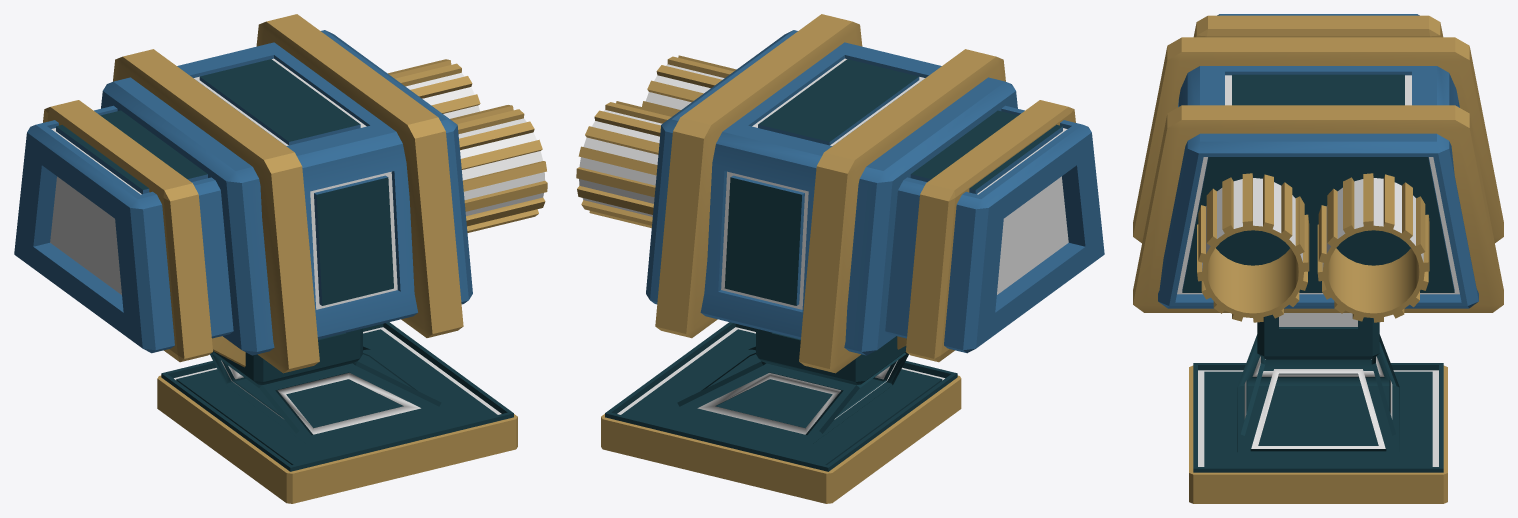
Rendered from missileLauncher.fbx.
The picture shows the model from 3 angles, left to right: view 1: azimuth 30°, elevation 25°; view 2: azimuth 150°, elevation 25°; view 3: azimuth 270°, elevation 25°; orthographic projection. The views are drawn at different scales.
Parts seen in each view (by area): view 1: Cube.009, Cube.008; view 2: Cube.009, Cube.008; view 3: Cube.009, Cube.008.
Part boxes in pixels (x1,y1,x2,y2): Cube.009: (14, 14, 547, 384); Cube.008: (157, 322, 517, 503); Cube.009: (576, 14, 1104, 384); Cube.008: (601, 322, 961, 503); Cube.009: (1133, 14, 1503, 359); Cube.008: (1189, 334, 1447, 503).
Size of the model in its own units: 352 by 293 by 287.
